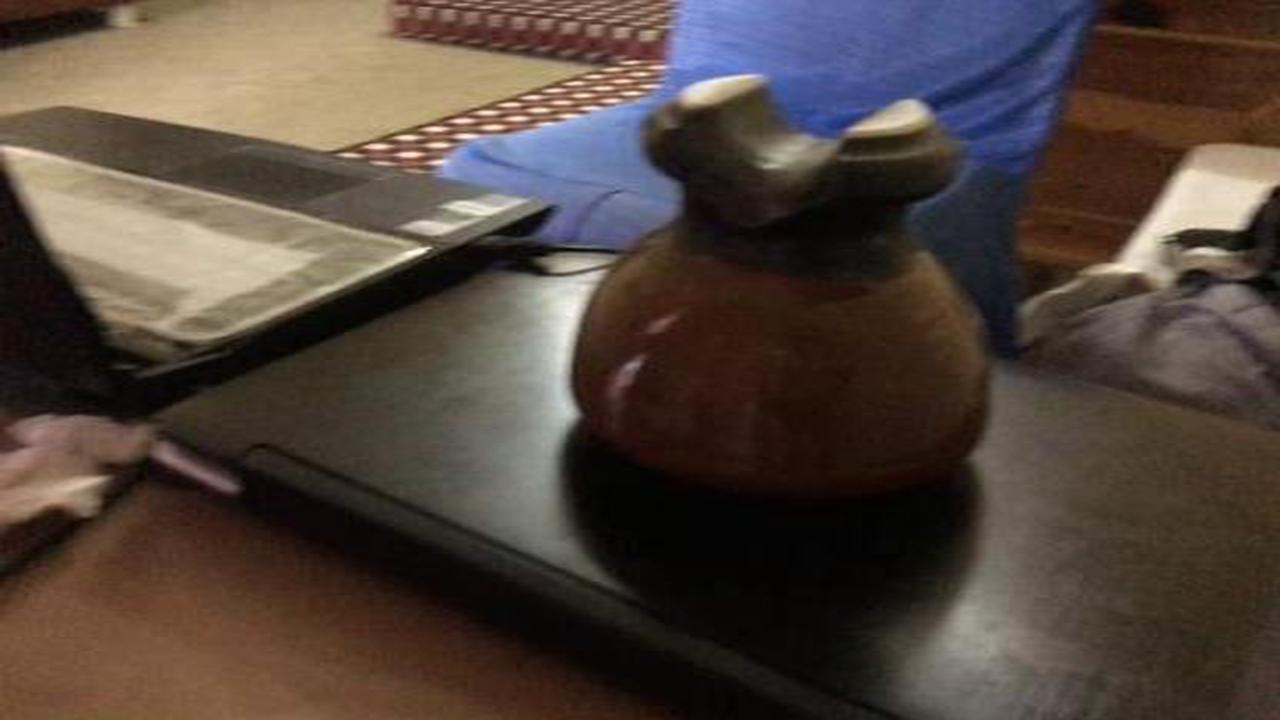insulator_pin: (554, 59, 1019, 525)
